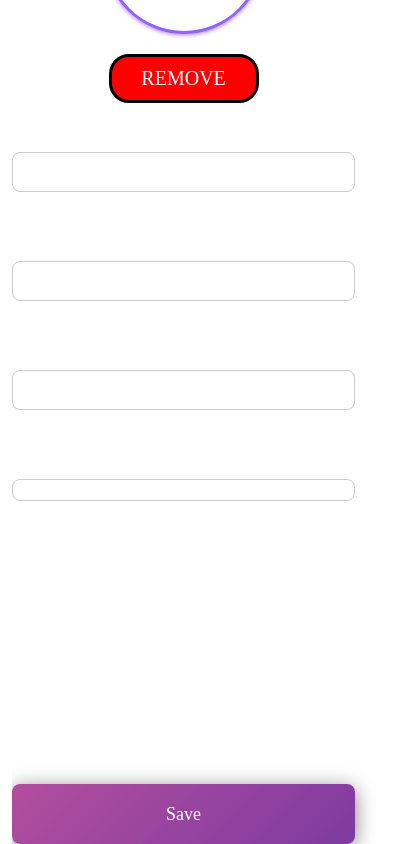
Scenario: Edit Profile Form › should handle the case when fullname is not valid
This screenshot has width=402, height=844.
(page scrolled)
Click the element with test id "SaveButton" at (184, 814), box [12,784,355,843]
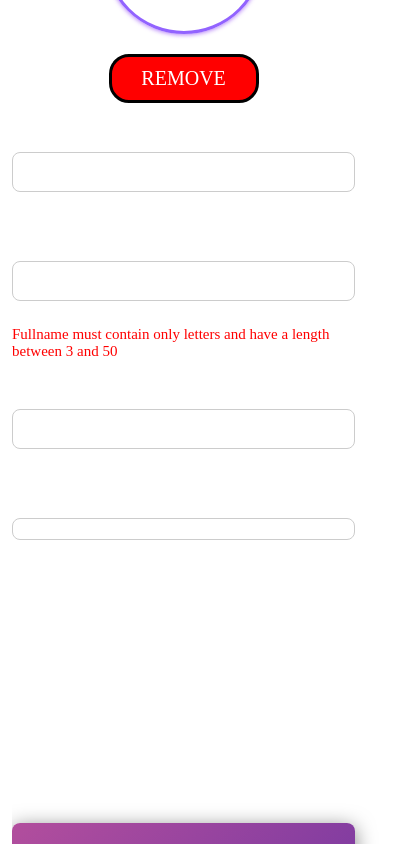
Now the text "Fullname must contain only letters and have a length between 3 and 50" is shown, box [12,326,355,360]
